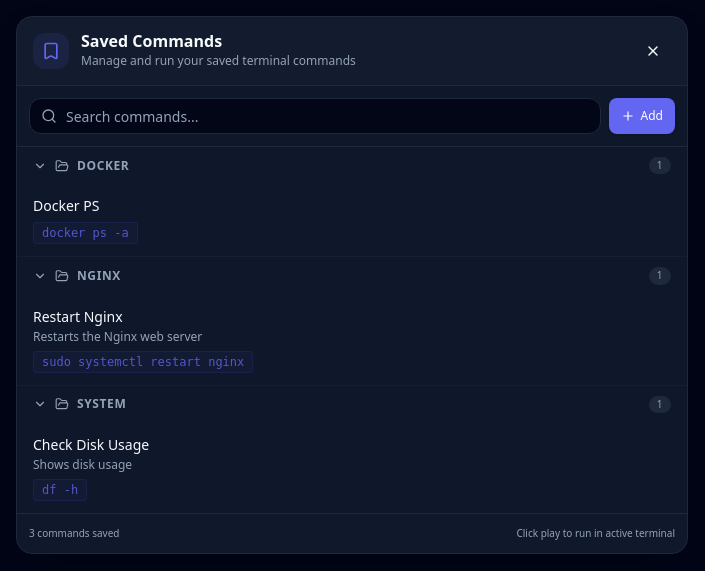
Test case: SavedCommandsModal › toggles category collapse on click
Expected: the text "Nginx" is shown, [77,268,121,284]
Click the button "Nginx 1" at point(99, 275), box [17,257,687,295]
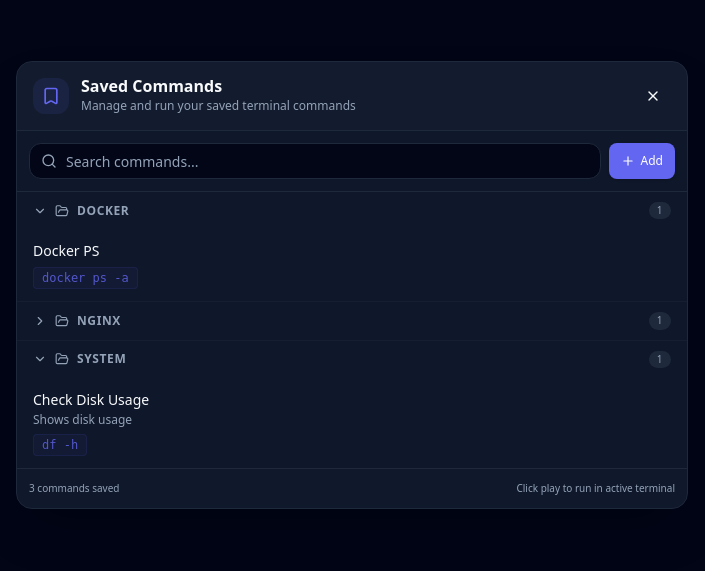
Expected: the text "Restart Nginx" is gone
